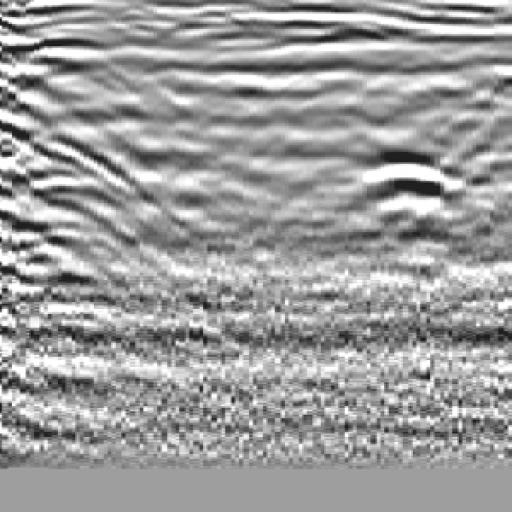metalic: (326, 25, 495, 280)
nonmetalic: (1, 47, 118, 270)
